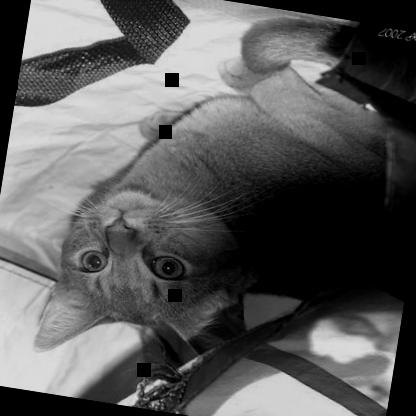cat: (30, 0, 410, 404)
